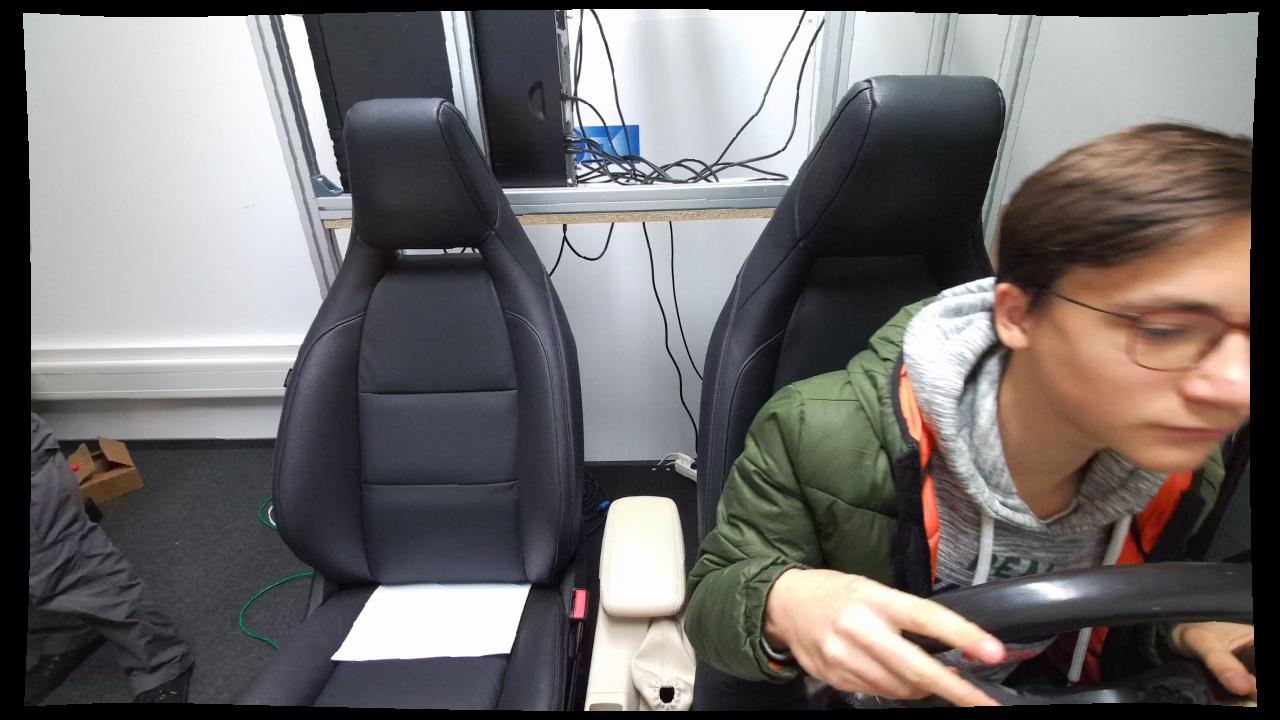Distracted: (681, 128, 1254, 714)
